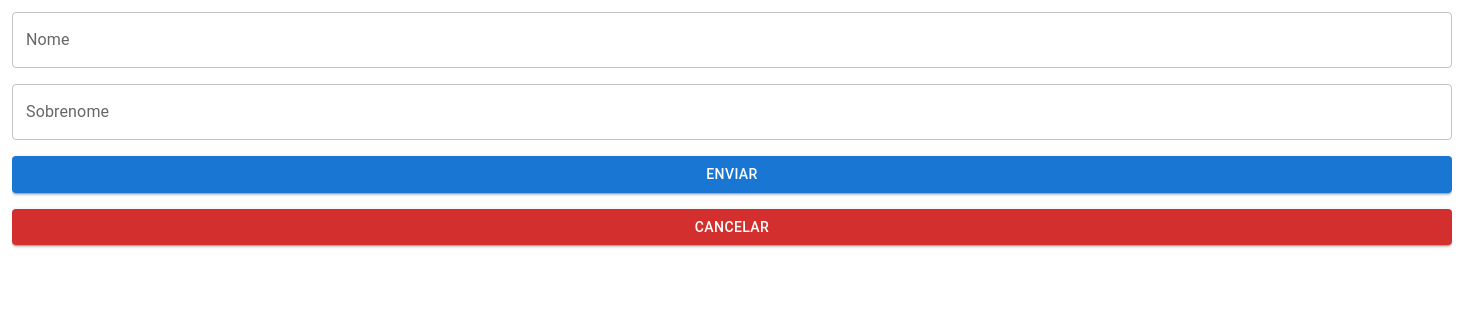
Scenario: Form › deve exibir mensagens de erro ao submeter sem preencher
Click the button "Enviar": (732,174) [12,156,1452,192]
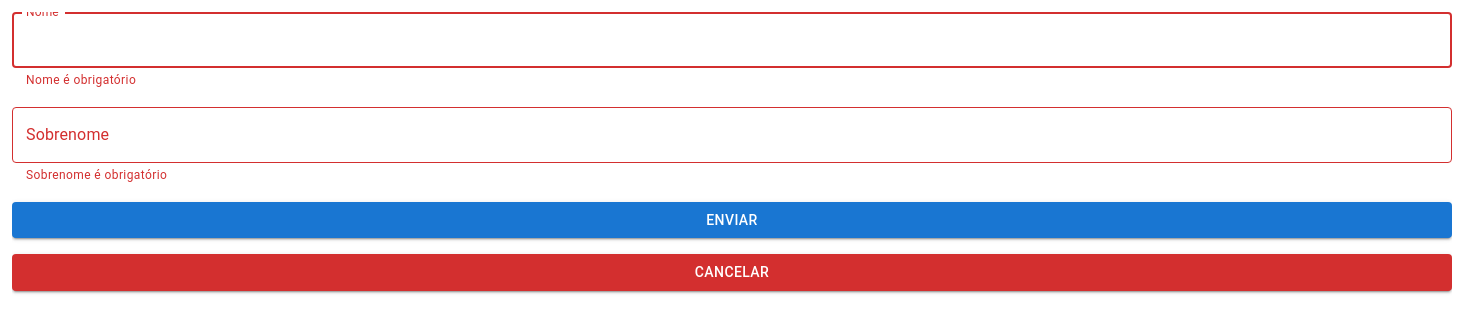
Expected: the text "Nome é obrigatório" is shown, [26,73,136,87]
Expected: the text "Sobrenome é obrigatório" is shown, [26,168,167,182]
